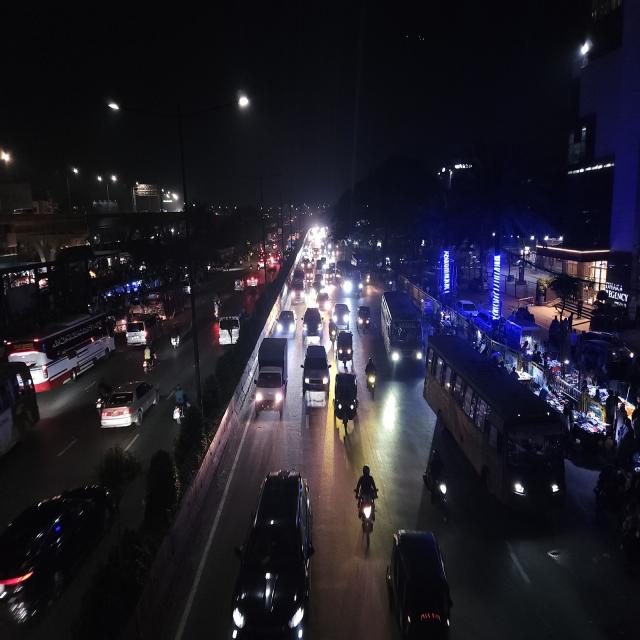bus: (425, 332, 568, 526), (4, 311, 116, 389), (0, 361, 41, 484), (378, 289, 424, 377), (336, 259, 362, 298)
car: (0, 475, 116, 637), (230, 466, 316, 640), (98, 377, 162, 434), (302, 341, 330, 414), (125, 314, 164, 346), (301, 304, 324, 344), (273, 306, 296, 338), (332, 300, 352, 330), (289, 277, 307, 305), (316, 290, 332, 315), (233, 275, 247, 294)
cng: (384, 523, 458, 640), (333, 366, 359, 439), (336, 328, 354, 371), (356, 302, 372, 333), (305, 268, 314, 282)
motorcycle: (352, 460, 380, 550), (426, 446, 451, 518), (170, 381, 192, 430), (363, 353, 377, 400), (140, 344, 157, 375), (169, 322, 183, 357), (210, 291, 222, 320)
truck: (252, 334, 290, 419)
